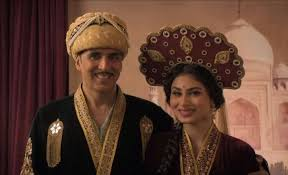Bad: (19, 12, 270, 175)
